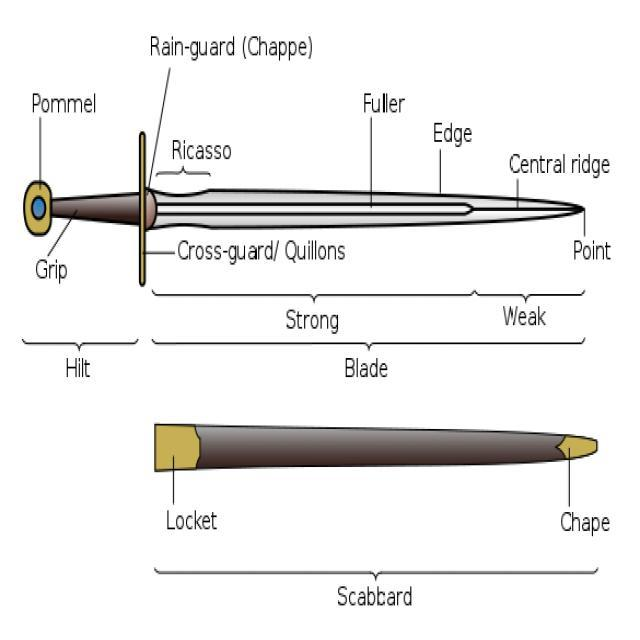scabbard: (151, 417, 617, 502)
sword: (31, 123, 600, 311)
